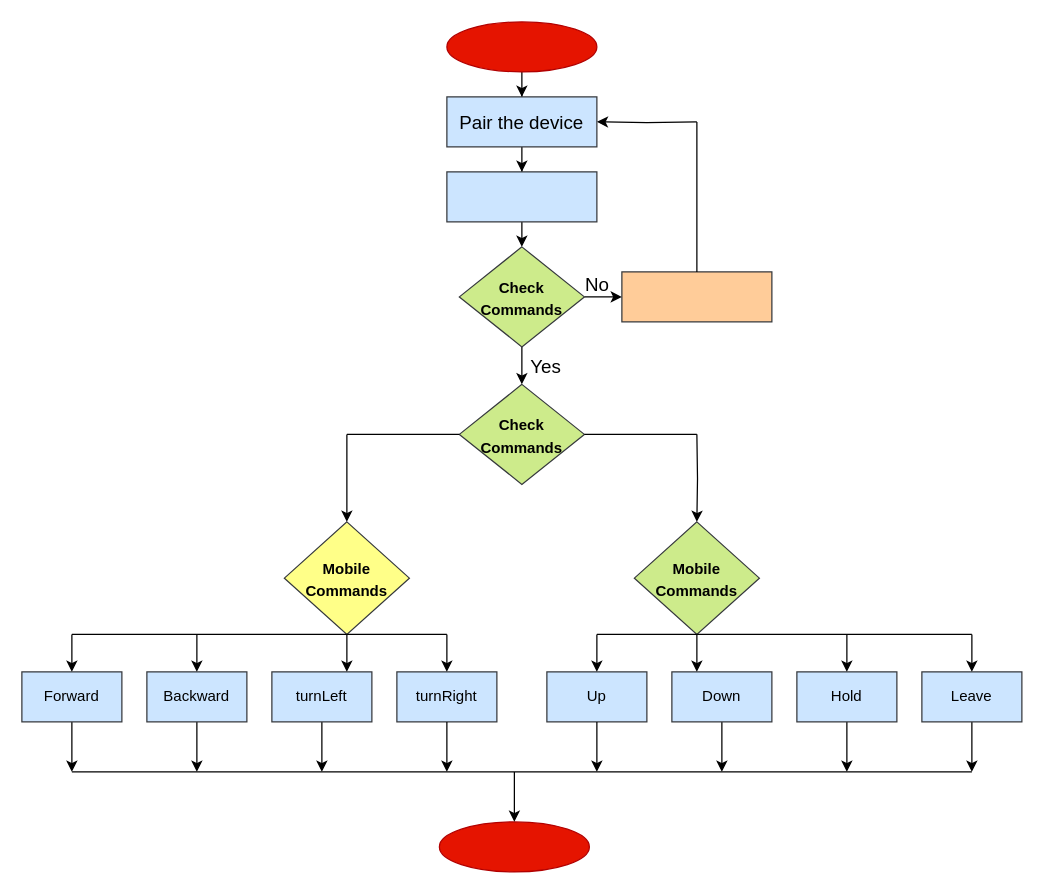
This 1044x894 diagram has some shape labels left out. The centre of each missing label's shape, as x and y in pixels:
"Ideal State" goes at (x=696, y=296).
"Start" goes at (x=521, y=46).
"Stop" goes at (x=513, y=846).
"Waiting for User Commands" goes at (x=521, y=196).
